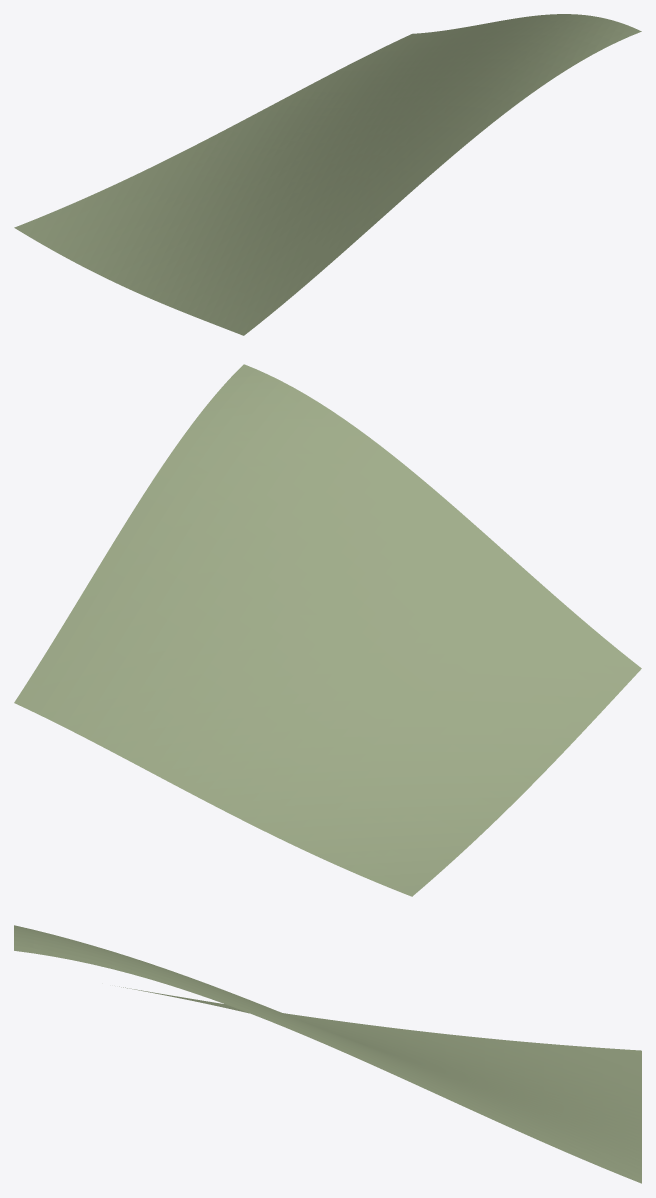
File: expanse-22-21.glb
3 renders of one model, top to bottom at view 1: azimuth 30°, elevation 25°; view 2: azimuth 150°, elevation 25°; view 3: azimuth 270°, elevation 25°, orthographic. The views are drawn at different scales.
Visible parts, largest first — view 1: expanse-22-21; view 2: expanse-22-21; view 3: expanse-22-21.
Part boxes in pixels (box(x1,y1,x2,y2)): expanse-22-21: box(14, 14, 641, 335); expanse-22-21: box(14, 364, 641, 896); expanse-22-21: box(14, 925, 641, 1183).
Bounding box in the file's own units: 256 × 164 × 256.
